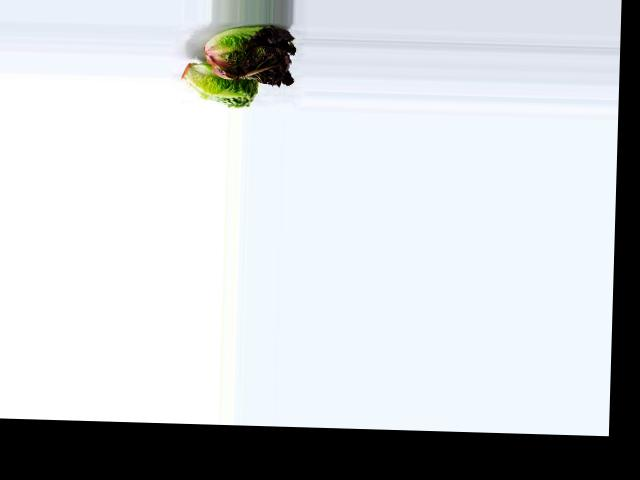lettuce: (178, 59, 260, 109)
